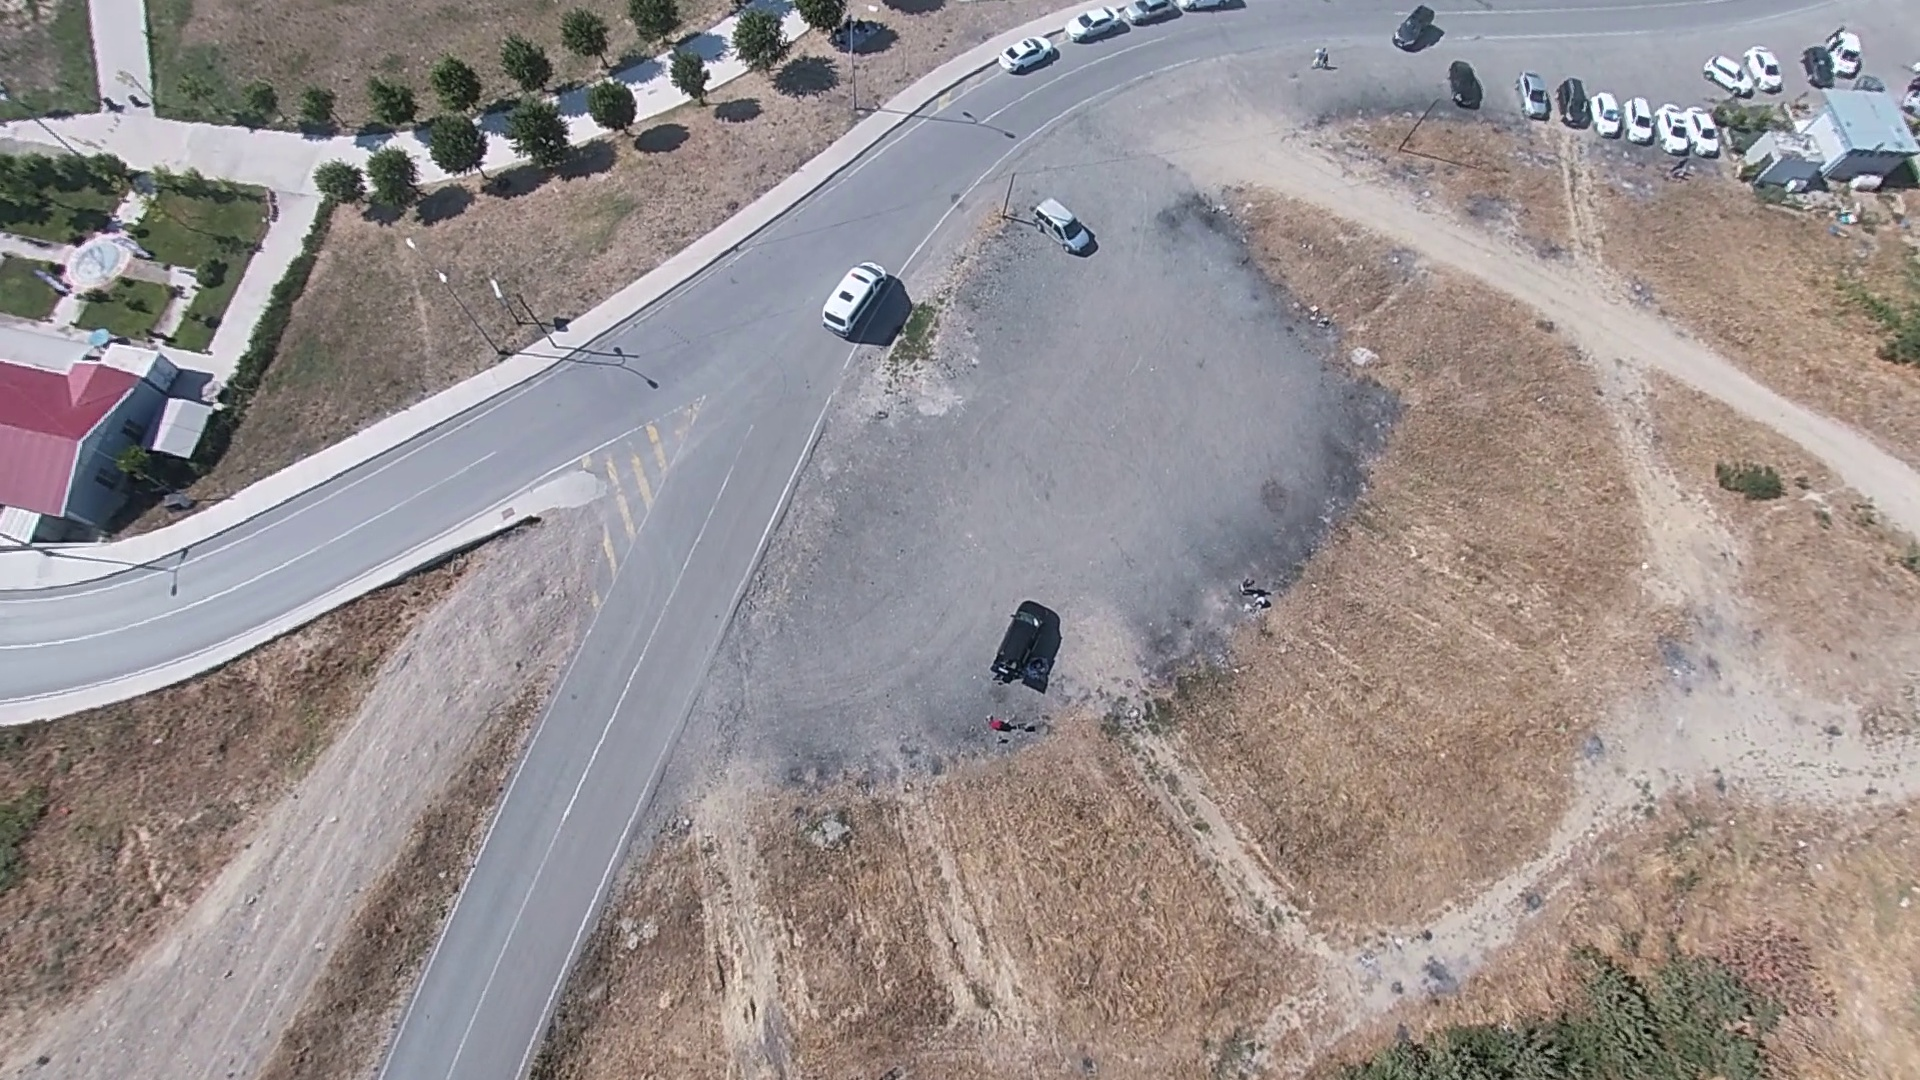arac: (983, 598, 1060, 695), (822, 254, 896, 334), (1032, 200, 1092, 255), (1705, 53, 1757, 97), (1064, 5, 1122, 44), (998, 35, 1053, 74), (1390, 5, 1435, 51), (1685, 105, 1722, 160), (1743, 44, 1782, 95), (1824, 27, 1861, 79), (1653, 102, 1689, 155), (1588, 89, 1623, 137), (1447, 57, 1481, 107), (1560, 77, 1590, 130), (1622, 95, 1654, 145), (1801, 46, 1837, 90), (1518, 72, 1551, 119), (1124, 1, 1178, 23)
insan: (1313, 48, 1331, 69), (1239, 574, 1252, 592)
